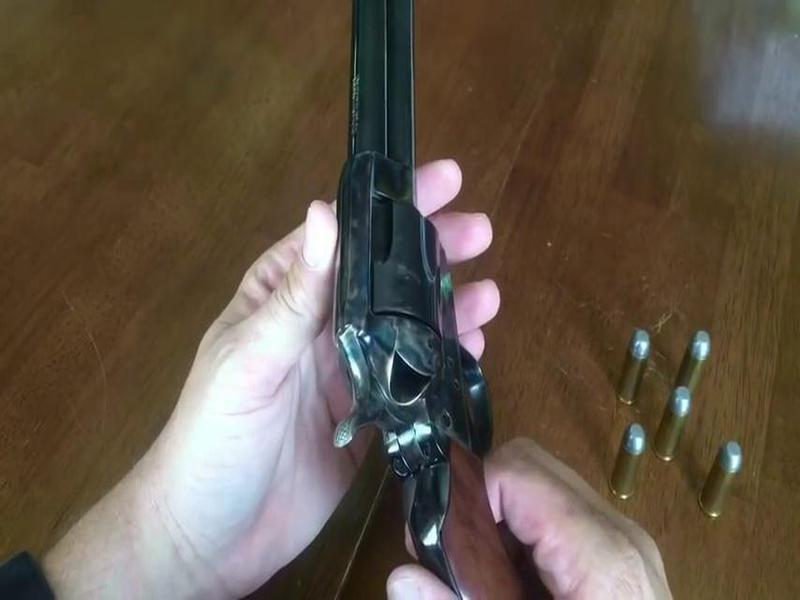Revolver: (295, 15, 547, 598)
